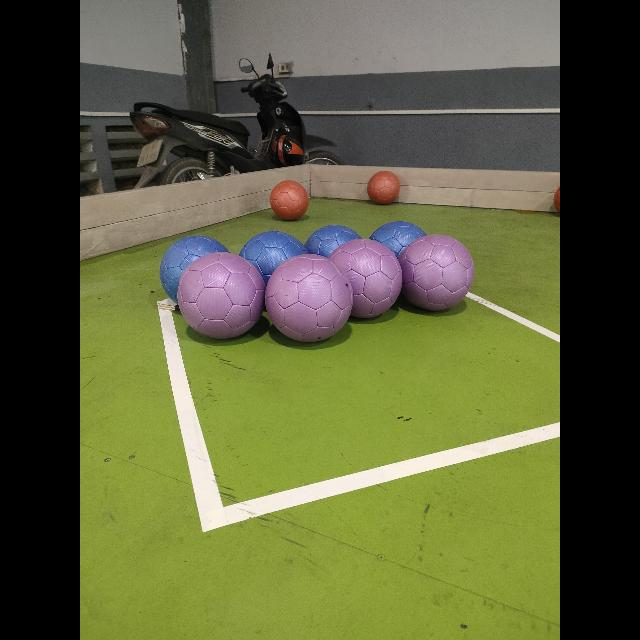B: (160, 235, 228, 302), (240, 232, 306, 300), (305, 224, 361, 280), (369, 222, 425, 274)
P: (177, 252, 265, 338), (266, 255, 352, 342), (398, 234, 474, 310)
R: (270, 180, 308, 220), (366, 170, 399, 203), (554, 186, 560, 214)
